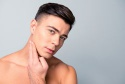male: (31, 4, 72, 59)
